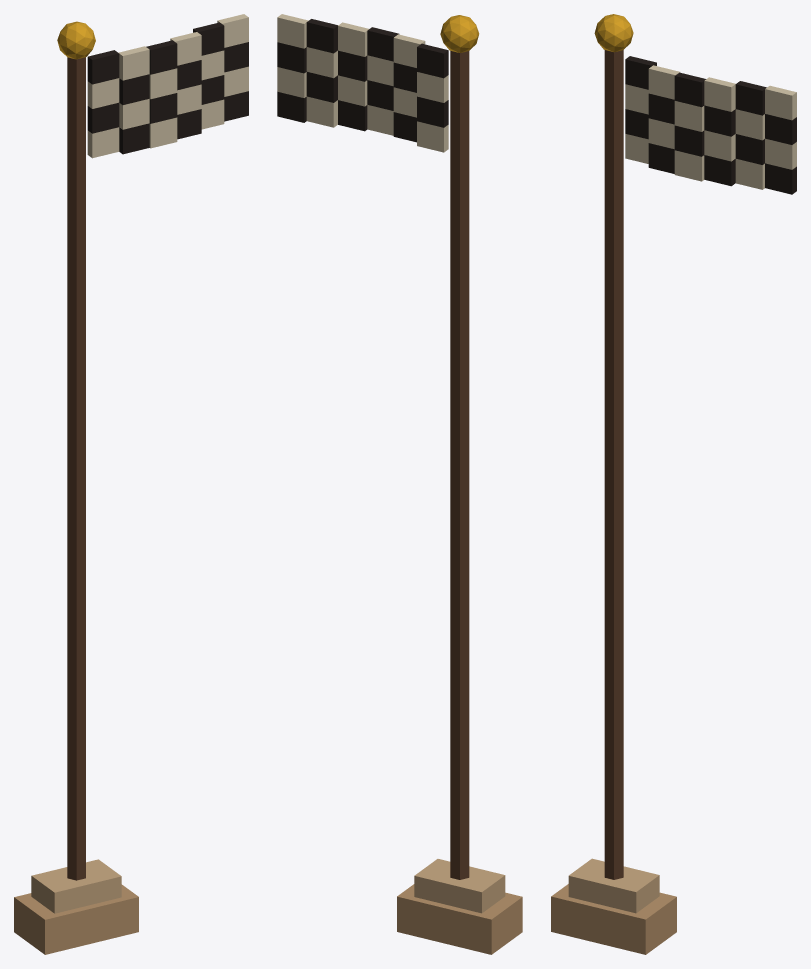
Rendered from flag.glb.
The picture shows the model from 3 angles, left to right: view 1: azimuth 30°, elevation 25°; view 2: azimuth 150°, elevation 25°; view 3: azimuth 330°, elevation 25°; orthographic projection.
Visible parts, largest first — view 1: cappadocia-flag; view 2: cappadocia-flag; view 3: cappadocia-flag.
Boxes of the visible parts, x1,y1,x2,y2 form: cappadocia-flag: (14,14,248,954); cappadocia-flag: (277,14,522,954); cappadocia-flag: (551,14,796,954).
Size of the model in its own units: 0.33 by 1.29 by 0.08.
